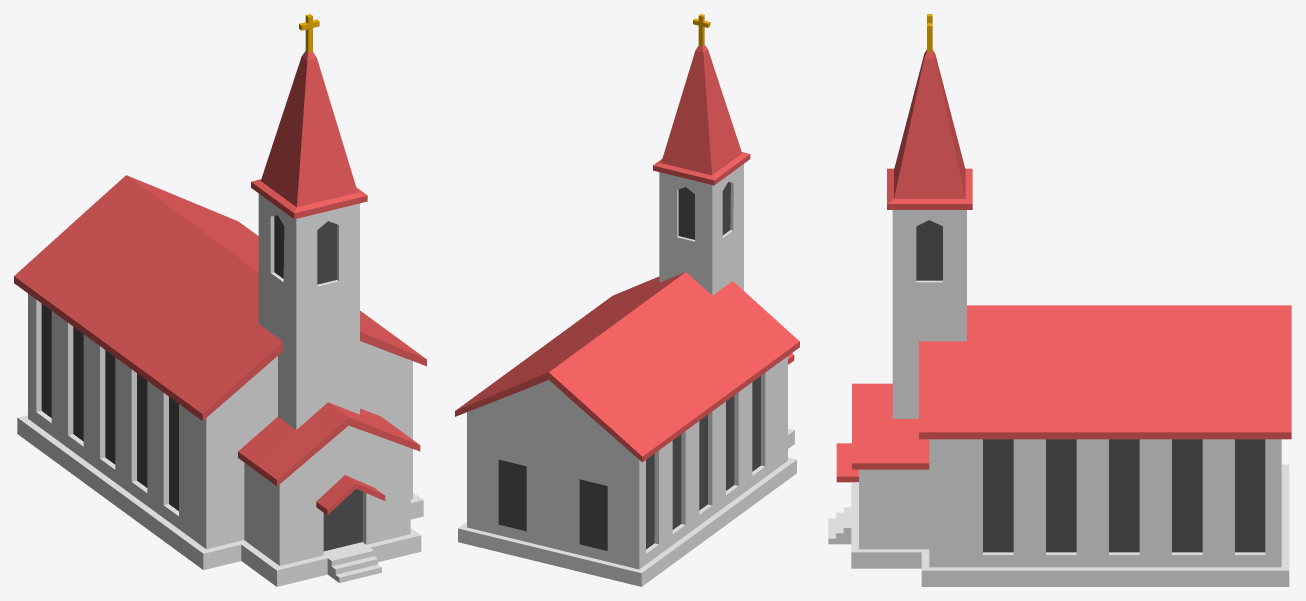
Rendered from 33abc7df-5cae-4f88-b5a5-bb3b1bfa15c2.glb.
The picture shows the model from 3 angles, left to right: view 1: azimuth 30°, elevation 25°; view 2: azimuth 150°, elevation 25°; view 3: azimuth 270°, elevation 25°; orthographic projection. The views are drawn at different scales.
Parts seen in each view (by area): view 1: Church; view 2: Church; view 3: Church.
Boxes of the visible parts, x1,y1,x2,y2 form: Church: (14, 14, 426, 586); Church: (455, 14, 799, 586); Church: (828, 14, 1291, 586).
Bounding box in the file's own units: 61.93 × 138 × 112.
Materials: 1 (1 with a texture image).
